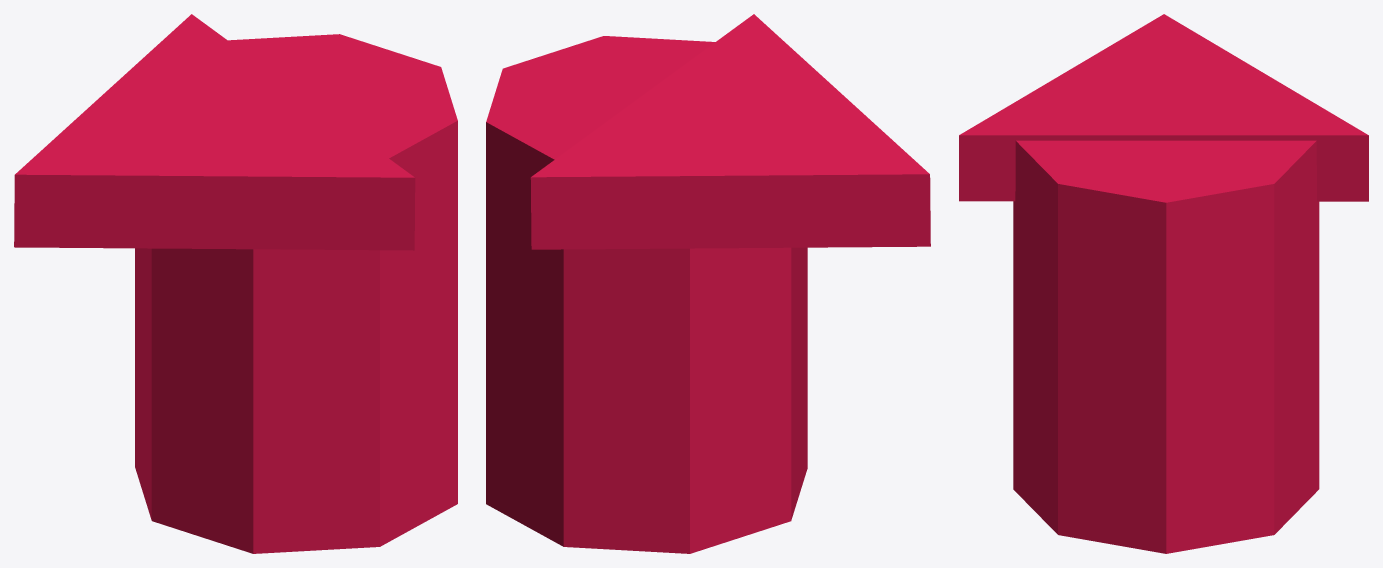
File: Interactor.fbx
The picture shows the model from 3 angles, left to right: view 1: azimuth 30°, elevation 25°; view 2: azimuth 150°, elevation 25°; view 3: azimuth 270°, elevation 25°; orthographic projection. The views are drawn at different scales.
Parts seen in each view (by area): view 1: Cylinder; view 2: Cylinder; view 3: Cylinder.
Part boxes in pixels (x1,y1,x2,y2): Cylinder: [14, 14, 457, 553]; Cylinder: [486, 14, 930, 553]; Cylinder: [959, 14, 1368, 553].
Bounding box in the file's own units: 163 × 157 × 181.
